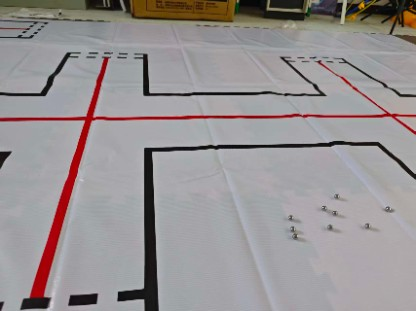ironball: (383, 204, 390, 212), (287, 212, 294, 219), (291, 232, 297, 239), (289, 224, 295, 231), (332, 192, 338, 199), (325, 223, 331, 229), (331, 209, 337, 215), (363, 223, 370, 228), (318, 204, 324, 209)
